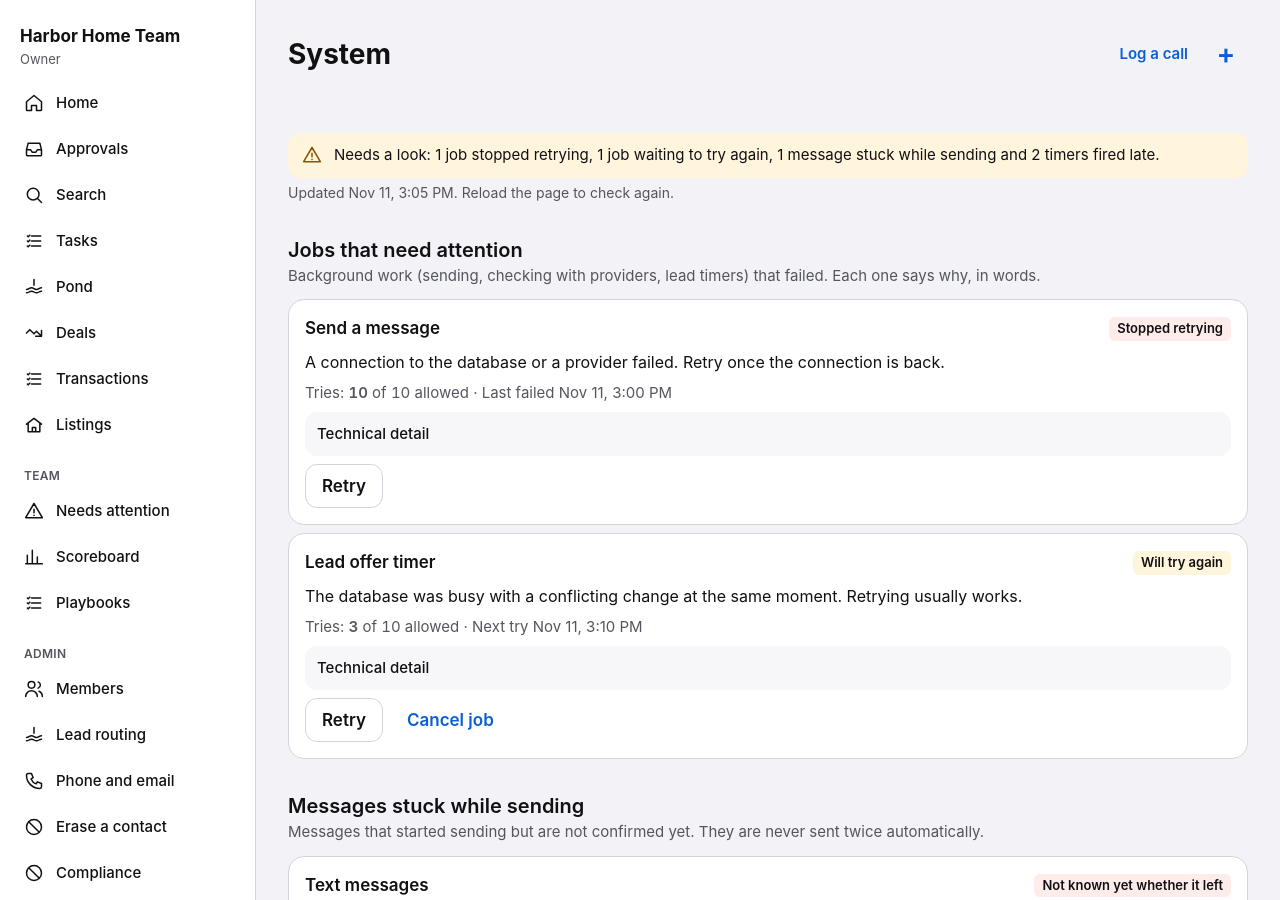
it: System page › retry asks first, says it never sends twice, posts, refetches and announces the result
The image size is (1280, 900).
Click the button named "Retry: Send a message".
click(344, 486)  # box [305,464,383,508]
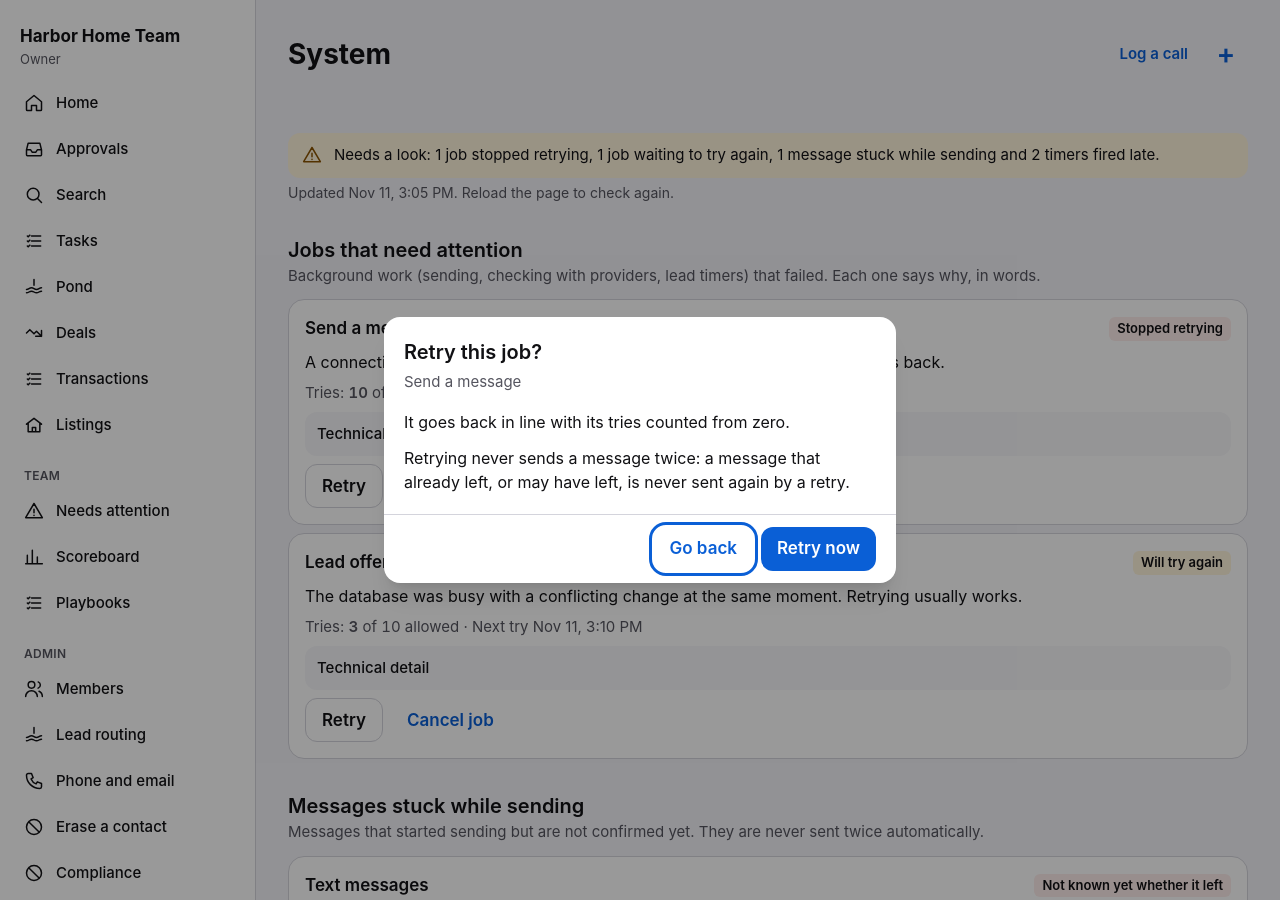
Expected: the text "Retrying never sends a message twice" is shown, [404,448,850,492]
Click the button "Retry now".
click(818, 549)  # box [761,527,876,571]
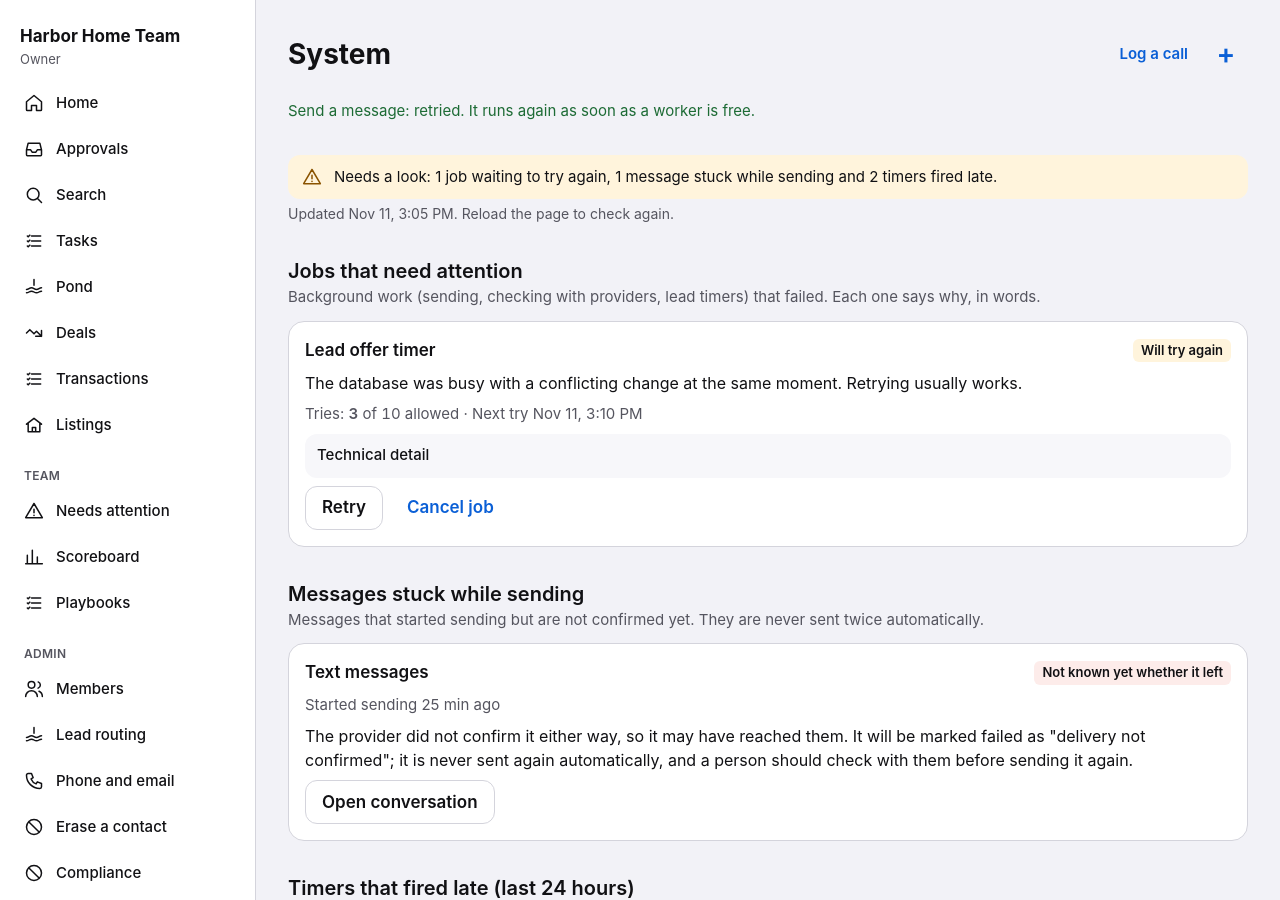
Expected: the dialog is gone
